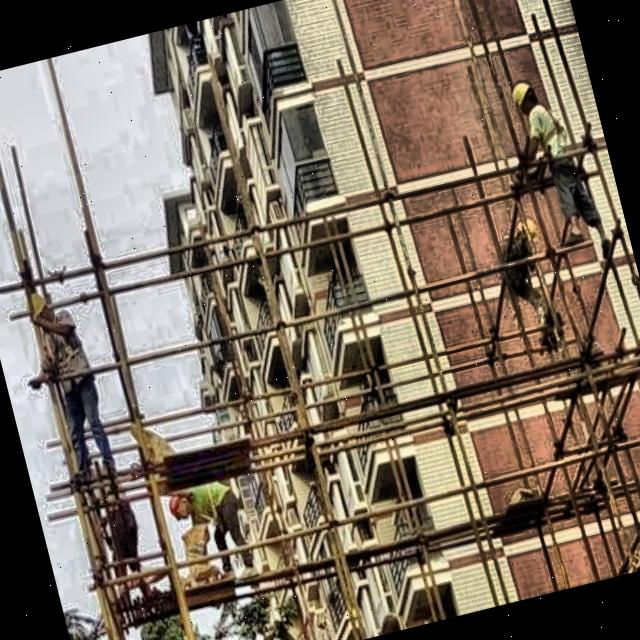helmet: (508, 74, 544, 124), (22, 286, 58, 334), (164, 492, 197, 524)
